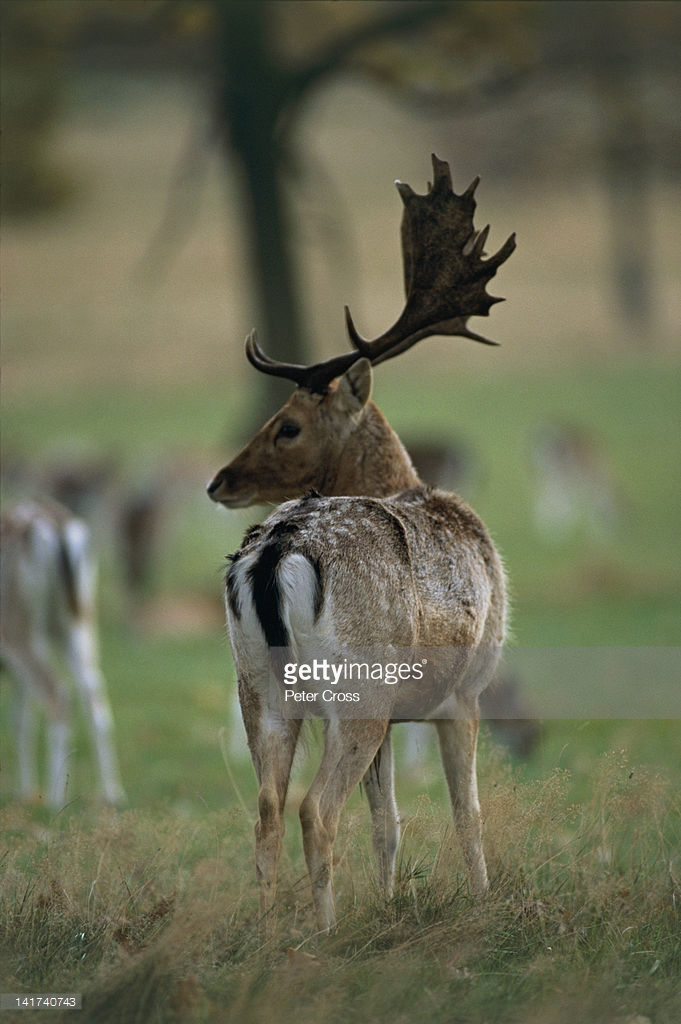Blackbuck: (180, 153, 520, 925)
